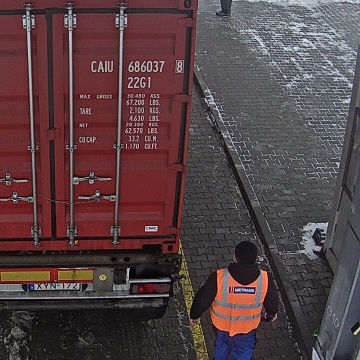serial_id: (90, 60, 182, 72)
